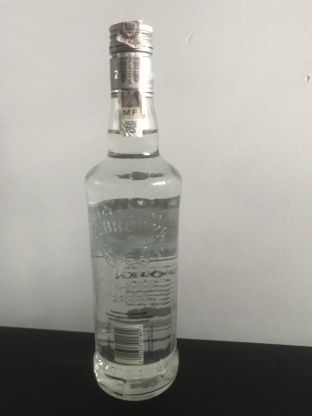nakretka: (107, 17, 156, 99)
